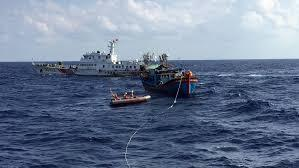Ship: (72, 41, 141, 77), (141, 54, 200, 96)
